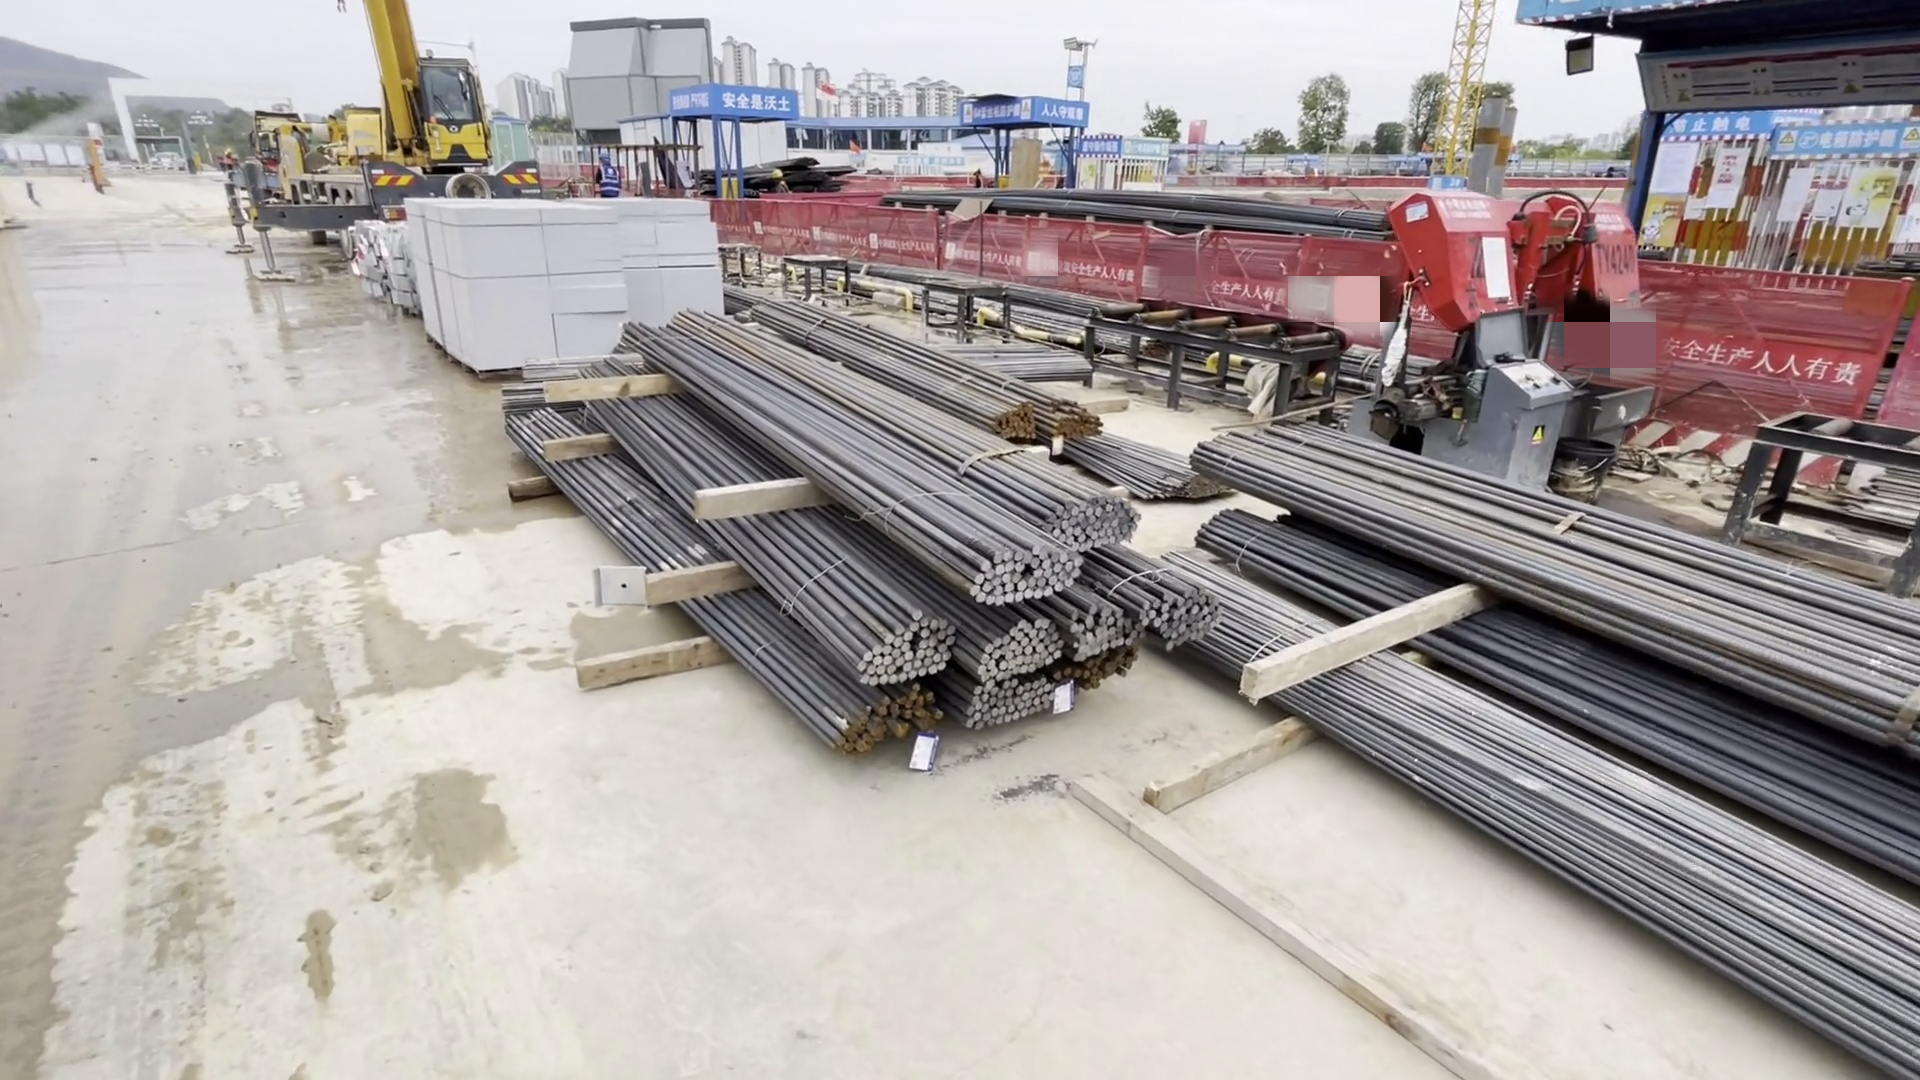brick: (406, 200, 732, 390)
fence: (721, 179, 1373, 353)
rebar: (1199, 431, 1920, 1076), (508, 287, 1208, 771)
slogan: (1658, 96, 1904, 177), (960, 99, 1098, 129), (669, 90, 796, 116)
